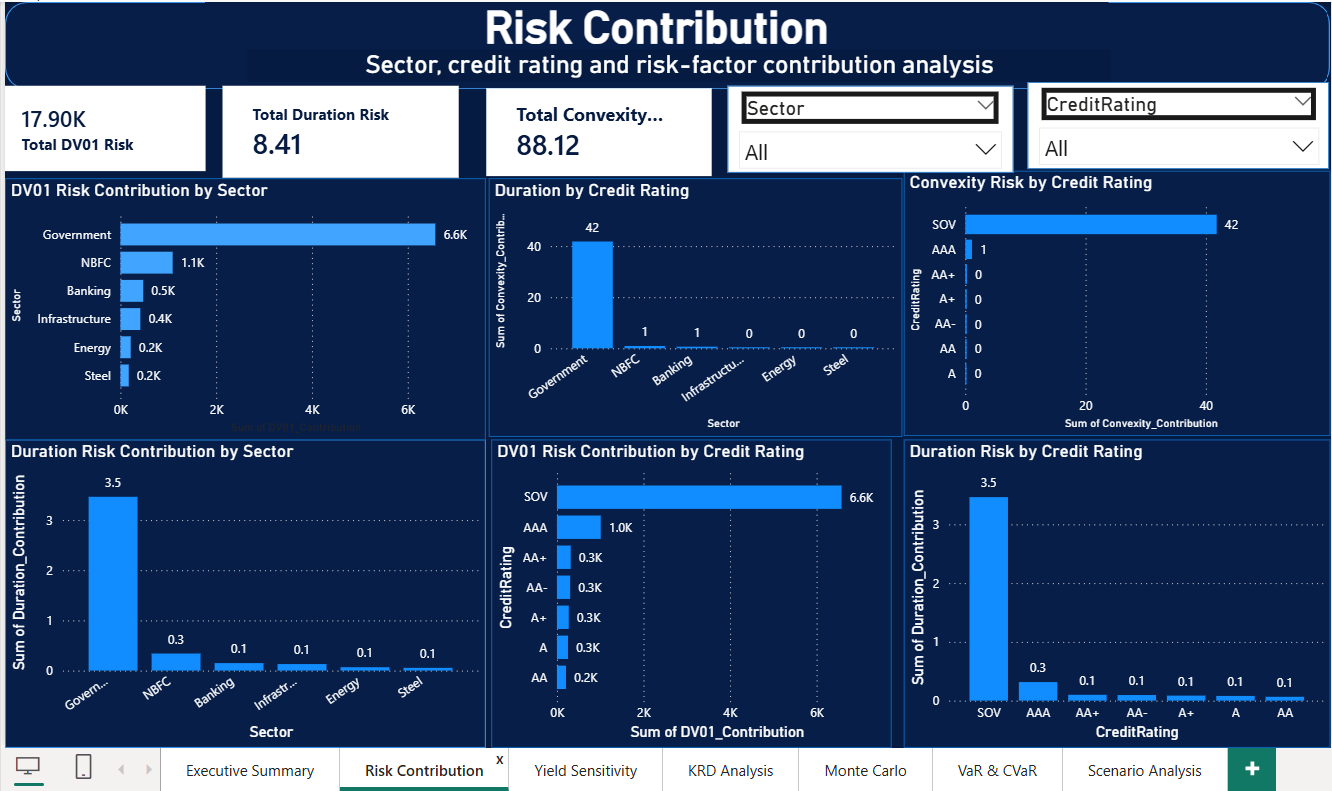

What the dashboard file says about the page in this screenshot:
{"tool":"powerbi","page":{"name":"Risk Contribution","canvas":[1280,720],"ordinal":1},"visuals":[{"type":"clusteredColumnChart","title":"Duration Risk Contribution by Sector","fields":{"Category":["Sector Risk.Sector"],"Y":["Sum(Sector Risk.Duration_Contribution)"]},"box":[0,422.7,464,297.2],"z":0},{"type":"clusteredBarChart","title":"DV01 Risk Contribution by Credit Rating","fields":{"Category":["Rating Risk.CreditRating"],"Y":["Sum(Rating Risk.DV01_Contribution)"]},"box":[468.9,422.7,386.4,297.2],"z":1000},{"type":"clusteredBarChart","title":"DV01 Risk Contribution by Sector","fields":{"Category":["Sector Risk.Sector"],"Y":["Sum(Sector Risk.DV01_Contribution)"]},"box":[0,170.1,464,252.6],"z":2000},{"type":"shape","box":[0,0,1279.7,84.2],"z":3000},{"type":"textbox","title":"Risk Contribution","box":[193.2,0,871.8,72.7],"z":4000},{"type":"cardVisual","fields":{"Data":["Portfolio Summary.Total DV01 Risk"]},"box":[0,80.8,193.3,82.2],"z":5000},{"type":"cardVisual","fields":{"Data":["Portfolio Summary.Total Duration Risk"]},"box":[209.7,80.9,227.9,89.2],"z":6000},{"type":"cardVisual","fields":{"Data":["Portfolio Summary.Total Convexity Risk"]},"box":[464.6,83.7,217.9,85.1],"z":7000},{"type":"textbox","title":"Sector, credit rating and risk-factor contribution analysis","box":[234.5,46.2,833.9,31.4],"z":8000},{"type":"clusteredColumnChart","title":"Duration by Credit Rating","fields":{"Category":["Sector Risk.Sector"],"Y":["Sum(Sector Risk.Convexity_Contribution)"]},"box":[467.3,170.1,399.6,249.3],"z":9000},{"type":"clusteredColumnChart","title":"Duration Risk by Credit Rating","fields":{"Category":["Rating Risk.CreditRating"],"Y":["Sum(Rating Risk.Duration_Contribution)"]},"box":[866.9,422.7,412.8,297.2],"z":10000},{"type":"clusteredBarChart","title":"Convexity Risk by Credit Rating","fields":{"Category":["Rating Risk.CreditRating"],"Y":["Sum(Rating Risk.Convexity_Contribution)"]},"box":[866.9,163.5,412.8,255.9],"z":11000},{"type":"slicer","fields":{"Values":["Sector Risk.Sector"]},"box":[696.8,80.9,275.8,84.2],"z":12000},{"type":"slicer","fields":{"Values":["Rating Risk.CreditRating"]},"box":[987.4,77.6,292.3,84.2],"z":13000}]}

Visuals, with their boxes on the page's 1280x720 design canvas (x1, y1, x2, y2). These are canvas units, not pixel positions in the 1332x791 screenshot, which may show the page scaled, cropped or inside an application window:
"Duration Risk Contribution by Sector" clusteredColumnChart: box(0, 423, 464, 720)
"DV01 Risk Contribution by Credit Rating" clusteredBarChart: box(469, 423, 855, 720)
"DV01 Risk Contribution by Sector" clusteredBarChart: box(0, 170, 464, 423)
shape: box(0, 0, 1280, 84)
"Risk Contribution" textbox: box(193, 0, 1065, 73)
cardVisual - Portfolio Summary.Total DV01 Risk: box(0, 81, 193, 163)
cardVisual - Portfolio Summary.Total Duration Risk: box(210, 81, 438, 170)
cardVisual - Portfolio Summary.Total Convexity Risk: box(465, 84, 682, 169)
"Sector, credit rating and risk-factor contribution analysis" textbox: box(234, 46, 1068, 78)
"Duration by Credit Rating" clusteredColumnChart: box(467, 170, 867, 419)
"Duration Risk by Credit Rating" clusteredColumnChart: box(867, 423, 1280, 720)
"Convexity Risk by Credit Rating" clusteredBarChart: box(867, 164, 1280, 419)
slicer - Sector Risk.Sector: box(697, 81, 973, 165)
slicer - Rating Risk.CreditRating: box(987, 78, 1280, 162)
